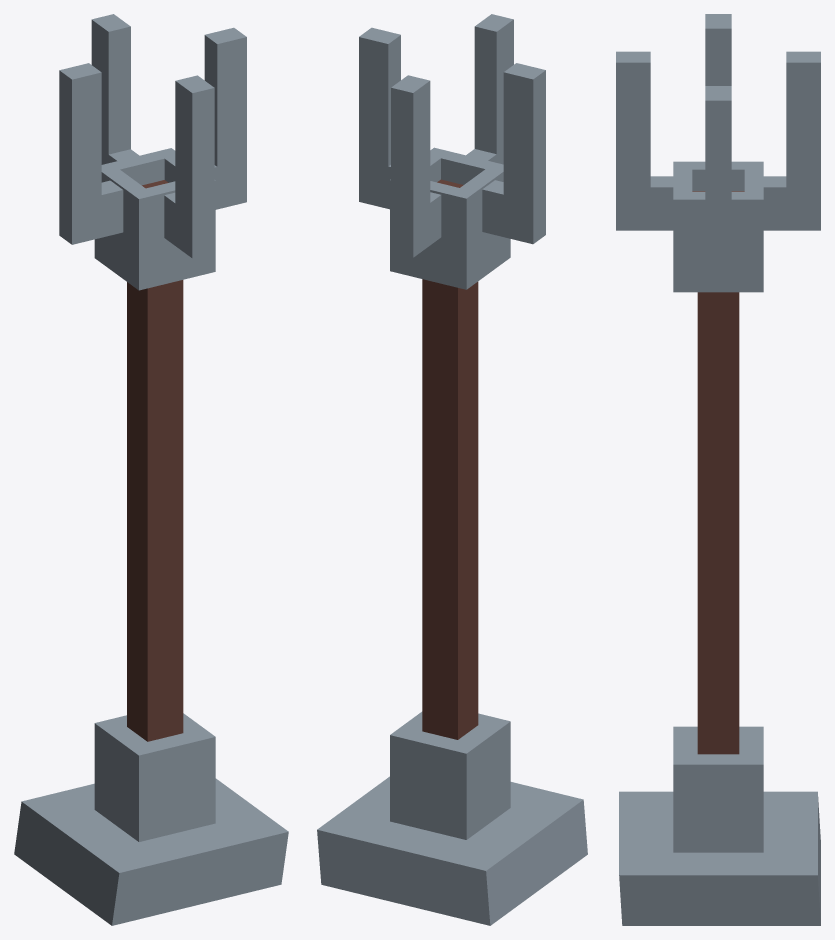
File: Fire_Torch.fbx
The picture shows the model from 3 angles, left to right: view 1: azimuth 30°, elevation 25°; view 2: azimuth 150°, elevation 25°; view 3: azimuth 270°, elevation 25°; orthographic projection.
Parts seen in each view (by area): view 1: Cube; view 2: Cube; view 3: Cube.
Part boxes in pixels (x1,y1,x2,y2): Cube: (14, 14, 288, 925); Cube: (317, 14, 587, 925); Cube: (616, 14, 820, 925).
Size of the model in its own units: 98.7 by 438 by 98.09.
